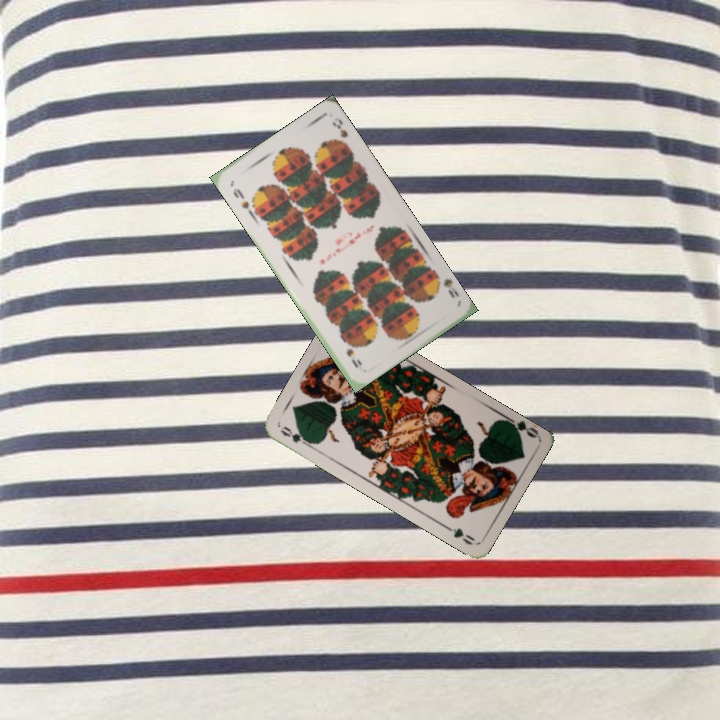GO: (501, 413, 540, 441), (276, 422, 315, 450)
S9: (429, 270, 462, 300), (229, 184, 252, 212)
